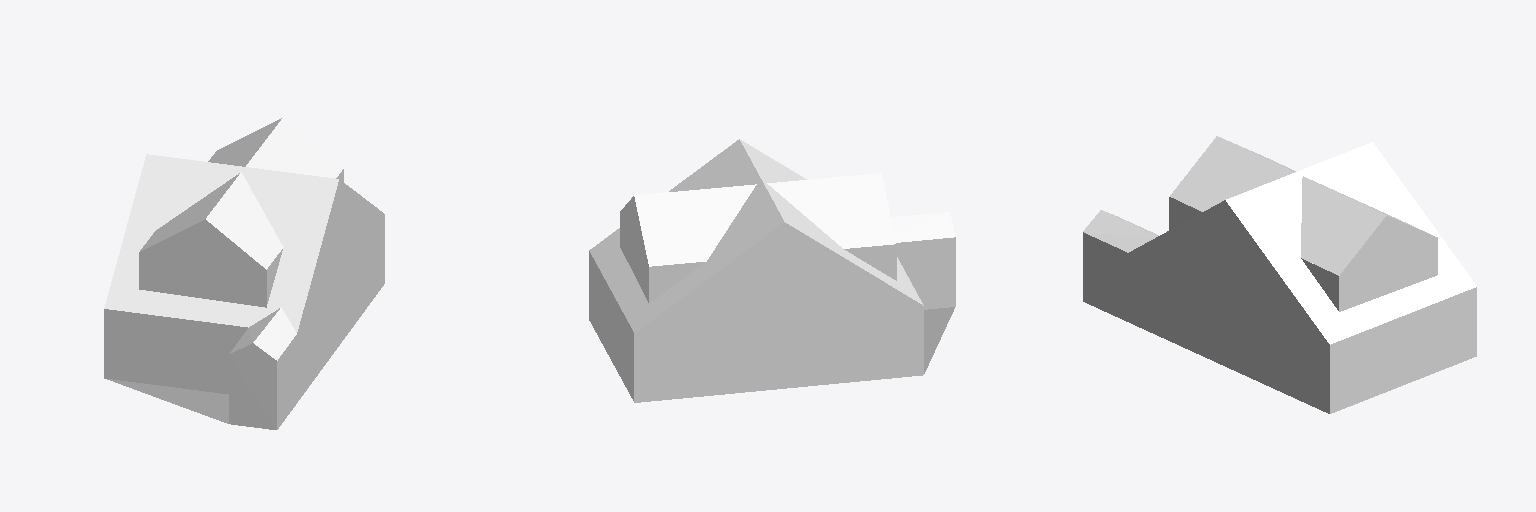
The model's file is house_Shape 292.obj.
3 views of the same model, side by side, from view 1: azimuth 30°, elevation 25°; view 2: azimuth 150°, elevation 25°; view 3: azimuth 270°, elevation 25° (orthographic).
Visible parts, largest first — view 1: CityEngineMaterial_18, CityEngineMaterial_154, CityEngineMaterial_153, CityEngineMaterial_194, CityEngineMaterial_193; view 2: CityEngineMaterial_154, CityEngineMaterial_18, CityEngineMaterial_194, CityEngineMaterial_193; view 3: CityEngineMaterial_18, CityEngineMaterial_153, CityEngineMaterial_154, CityEngineMaterial_194.
Boxes of the visible parts, x1=… form: CityEngineMaterial_18: x1=104, y1=118, x2=343, y2=360; CityEngineMaterial_154: x1=104, y1=224, x2=276, y2=429; CityEngineMaterial_153: x1=267, y1=169, x2=384, y2=429; CityEngineMaterial_194: x1=197, y1=179, x2=376, y2=304; CityEngineMaterial_193: x1=104, y1=310, x2=303, y2=423; CityEngineMaterial_154: x1=589, y1=198, x2=955, y2=402; CityEngineMaterial_18: x1=589, y1=139, x2=954, y2=333; CityEngineMaterial_194: x1=632, y1=196, x2=897, y2=313; CityEngineMaterial_193: x1=924, y1=307, x2=954, y2=373; CityEngineMaterial_18: x1=1083, y1=136, x2=1476, y2=344; CityEngineMaterial_153: x1=1083, y1=197, x2=1338, y2=413; CityEngineMaterial_154: x1=1180, y1=182, x2=1476, y2=413; CityEngineMaterial_194: x1=1145, y1=200, x2=1392, y2=318.
Bounding box in the file's own units: 16.76 × 8.67 × 18.62.